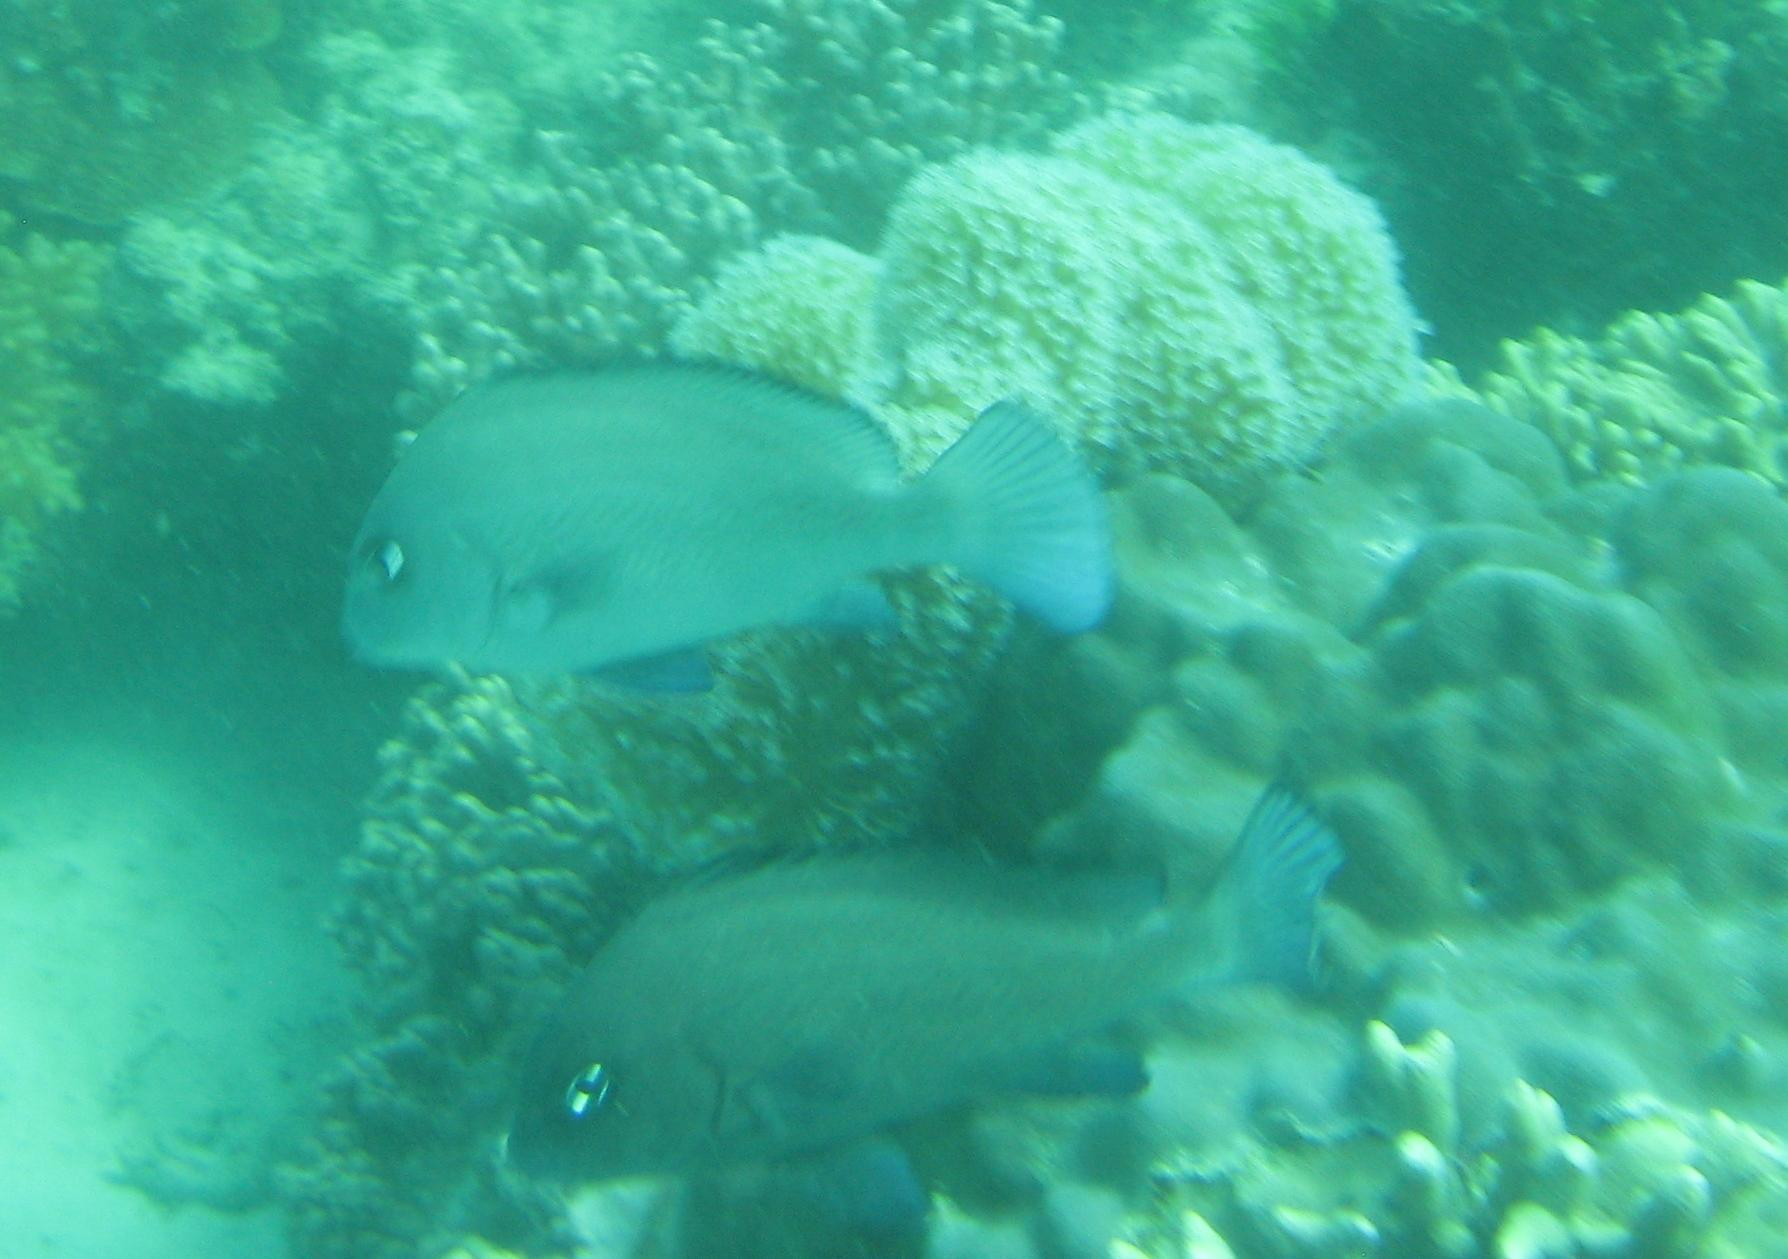Fish: (458, 751, 1353, 1198), (318, 338, 1120, 698)
